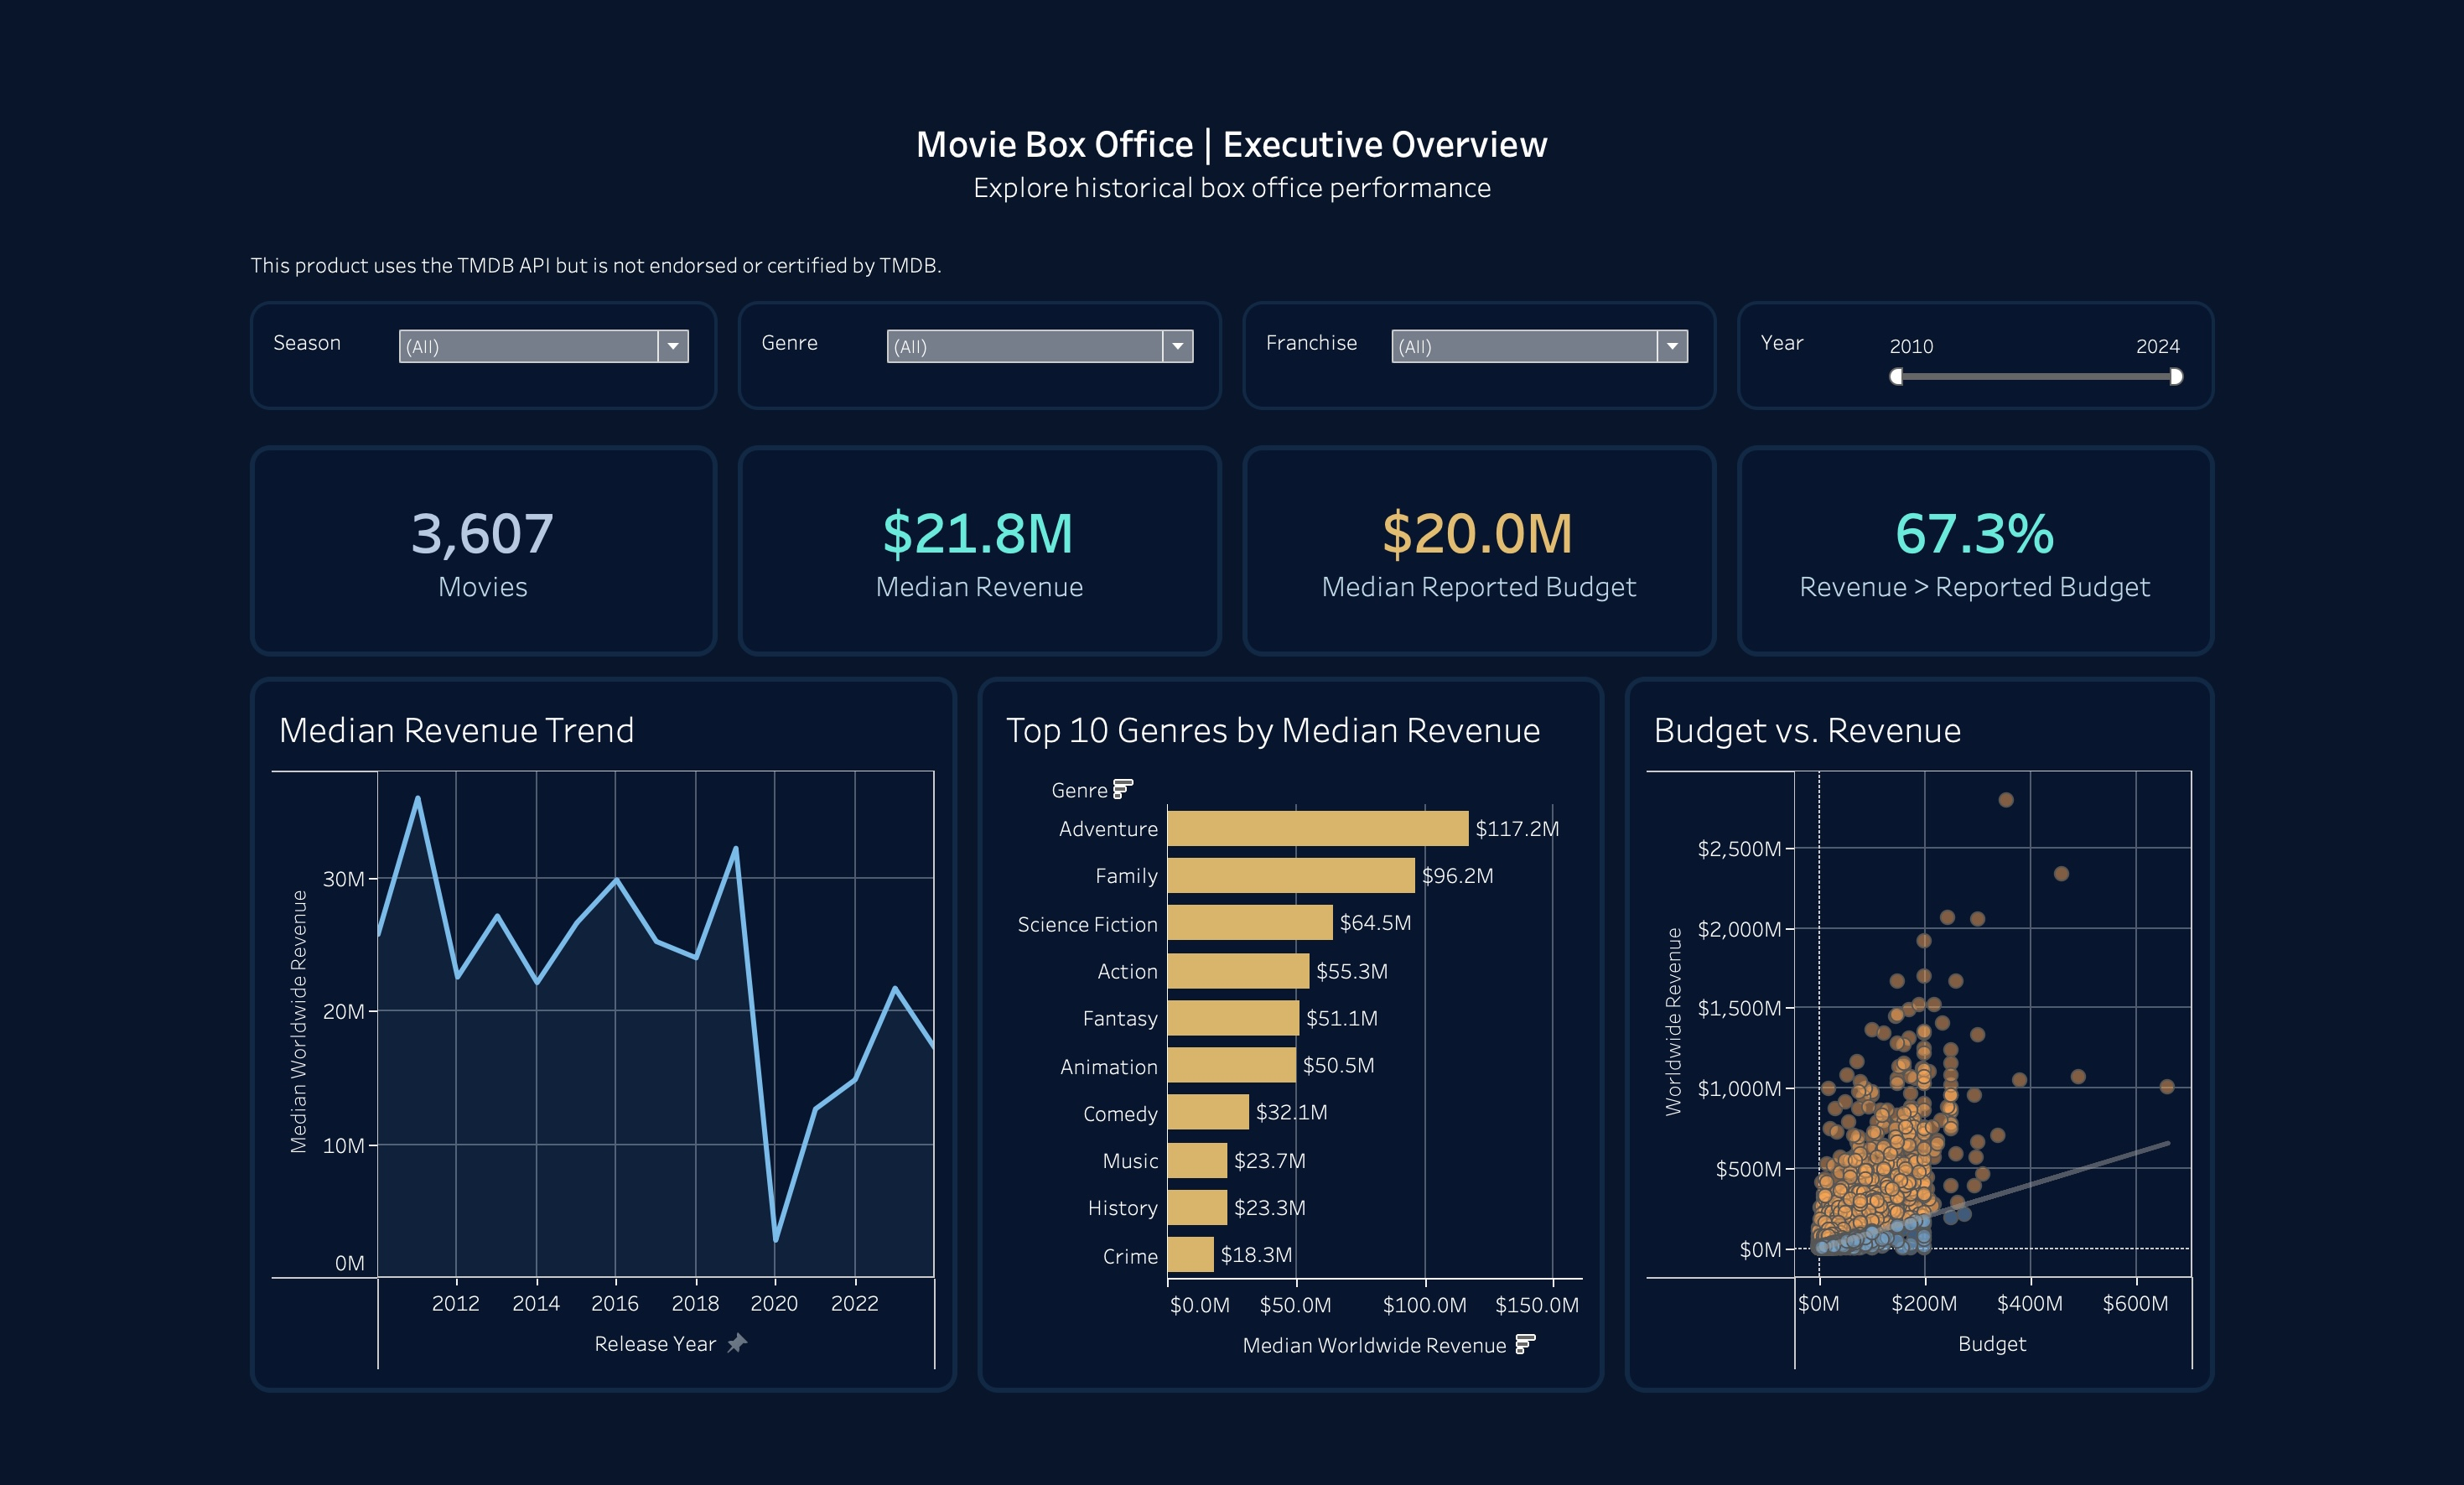

The dashboard page shown, as its layout file describes it:
{"tool":"tableau","page":{"name":"Executive Overview","canvas":[1200,800],"ordinal":0},"visuals":[{"type":"text","box":[8,8,1184,89]},{"type":"text","box":[8,97,1184,32]},{"type":"filter","title":"Revenue Trend","param":"[federated.12yxoz10boa1l711euuvv0npipmq].[none:release_season:nk]","box":[8,129,290.7,77]},{"type":"filter","title":"Revenue Trend","param":"[federated.12yxoz10boa1l711euuvv0npipmq].[none:primary_genre:nk]","box":[298.7,129,301.2,77]},{"type":"filter","title":"Revenue Trend","param":"[federated.12yxoz10boa1l711euuvv0npipmq].[none:Calculation_6778875338235904:nk]","box":[599.8,129,295.1,77]},{"type":"filter","title":"Revenue Trend","param":"[federated.12yxoz10boa1l711euuvv0npipmq].[none:release_year (movies_features.csv","box":[894.9,129,297.1,77]},{"type":"worksheet","title":"KPI - Total Movies","mark":"Automatic","box":[8,206,290.7,147]},{"type":"worksheet","title":"KPI - Median Revenue","mark":"Automatic","box":[298.7,206,301.2,147]},{"type":"worksheet","title":"KPI - Average Budget","mark":"Automatic","box":[599.8,206,295.5,147]},{"type":"worksheet","title":"KPI - Gross Above Budget","mark":"Automatic","box":[895.3,206,296.7,147]},{"type":"worksheet","title":"Revenue Trend","mark":"Area","rows":["worldwide_revenue_usd (movies_features.csv)","worldwide_revenue_usd (movies_features.csv)"],"cols":["release_year (movies_features.csv)"],"box":[8,353,434,439]},{"type":"worksheet","title":"genersbyrevenue","mark":"Automatic","rows":["genre"],"cols":["worldwide_revenue_usd (movies_features.csv)"],"box":[442,353,385.7,439]},{"type":"worksheet","title":"budgetvsrevenue","mark":"Circle","rows":["worldwide_revenue_usd","budget_usd"],"cols":["budget_usd"],"box":[827.7,353,364.3,439]}]}

Visuals, with their boxes on the page's 1200x800 design canvas (x1, y1, x2, y2). These are canvas units, not pixel positions in the 2464x1485 screenshot, which may show the page scaled, cropped or inside an application window:
text: locate(8, 8, 1192, 97)
text: locate(8, 97, 1192, 129)
"Revenue Trend" filter: locate(8, 129, 299, 206)
"Revenue Trend" filter: locate(299, 129, 600, 206)
"Revenue Trend" filter: locate(600, 129, 895, 206)
"Revenue Trend" filter: locate(895, 129, 1192, 206)
"KPI - Total Movies" worksheet: locate(8, 206, 299, 353)
"KPI - Median Revenue" worksheet: locate(299, 206, 600, 353)
"KPI - Average Budget" worksheet: locate(600, 206, 895, 353)
"KPI - Gross Above Budget" worksheet: locate(895, 206, 1192, 353)
"Revenue Trend" worksheet (Area marks): locate(8, 353, 442, 792)
"genersbyrevenue" worksheet: locate(442, 353, 828, 792)
"budgetvsrevenue" worksheet (Circle marks): locate(828, 353, 1192, 792)
